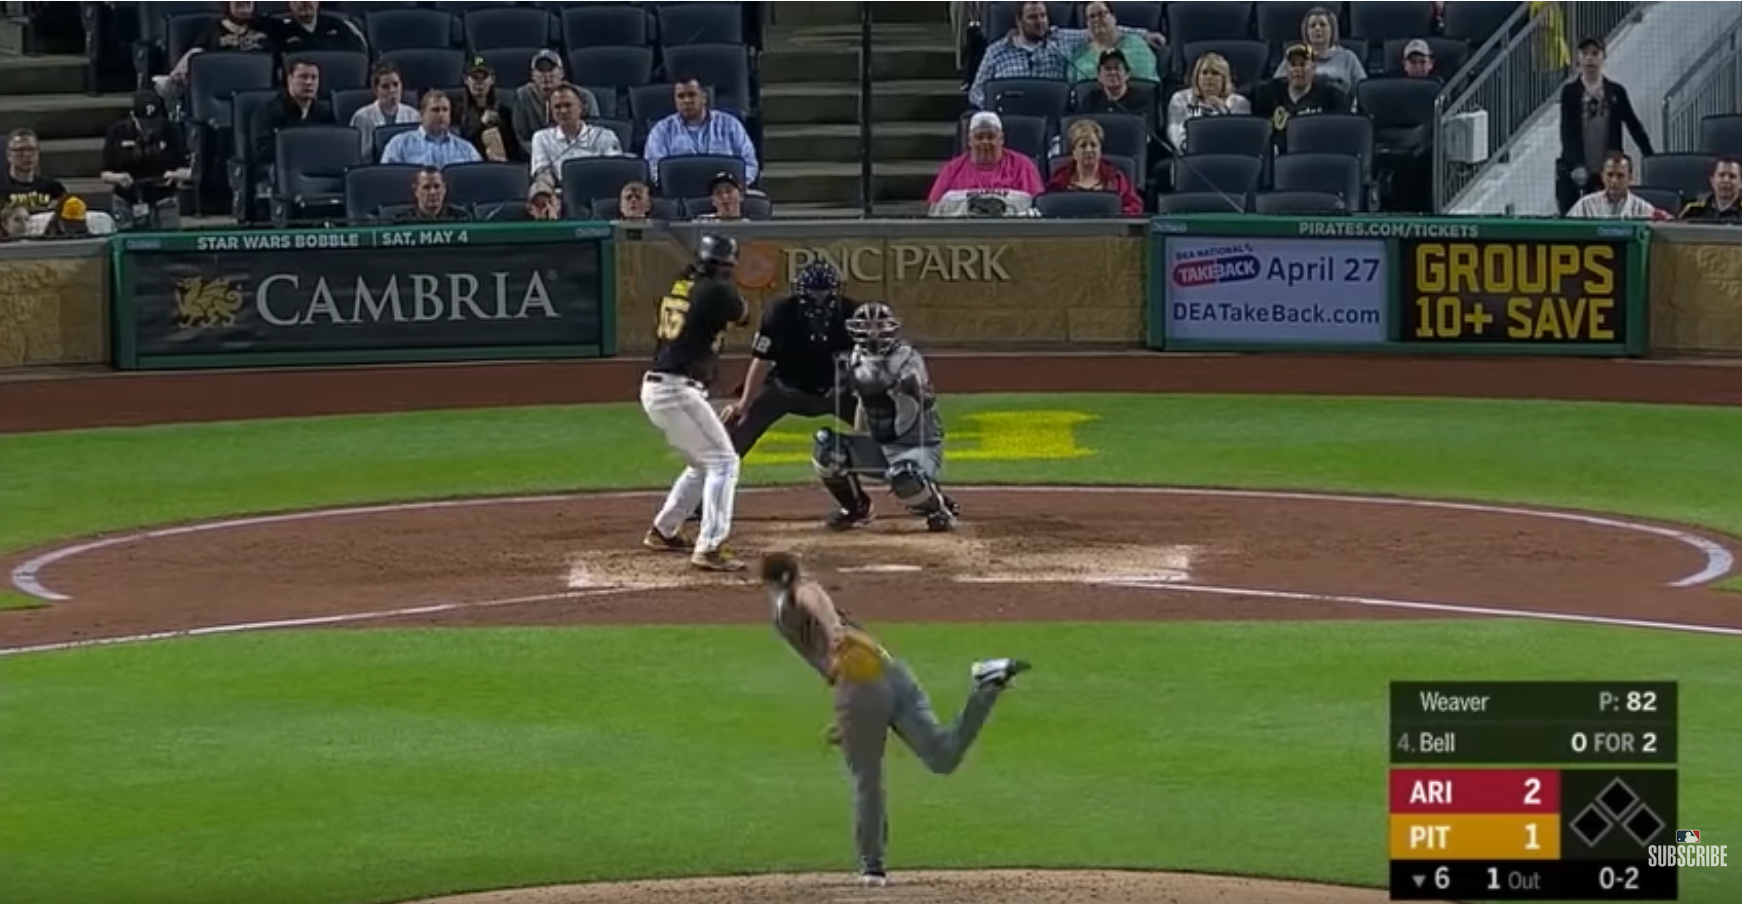ball: (854, 364, 872, 383)
